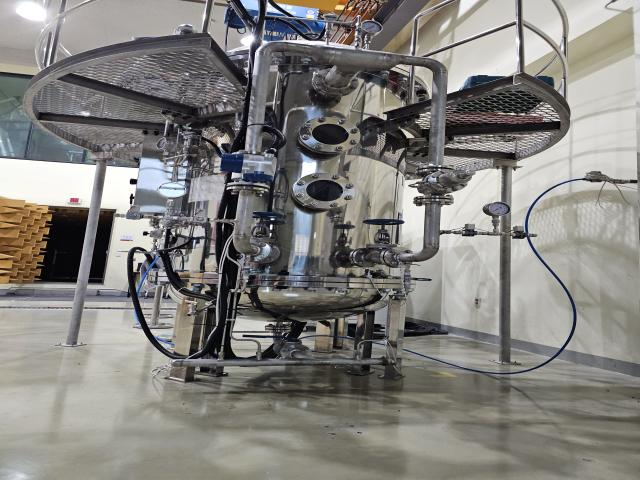Flange: (297, 117, 361, 154), (291, 172, 355, 209)
Flush Ring: (311, 68, 359, 97), (232, 239, 272, 262), (381, 246, 413, 268), (226, 182, 271, 196), (279, 344, 313, 362), (350, 248, 381, 267), (413, 194, 455, 206), (416, 165, 456, 177)
GasRegulator: (156, 131, 216, 174)
Nuts: (119, 212, 152, 221), (507, 229, 533, 240), (185, 215, 216, 224), (454, 229, 488, 237)
Piston Valve: (362, 218, 406, 248), (247, 211, 286, 242)
Pressure Gage: (157, 182, 187, 217), (482, 201, 513, 233)
